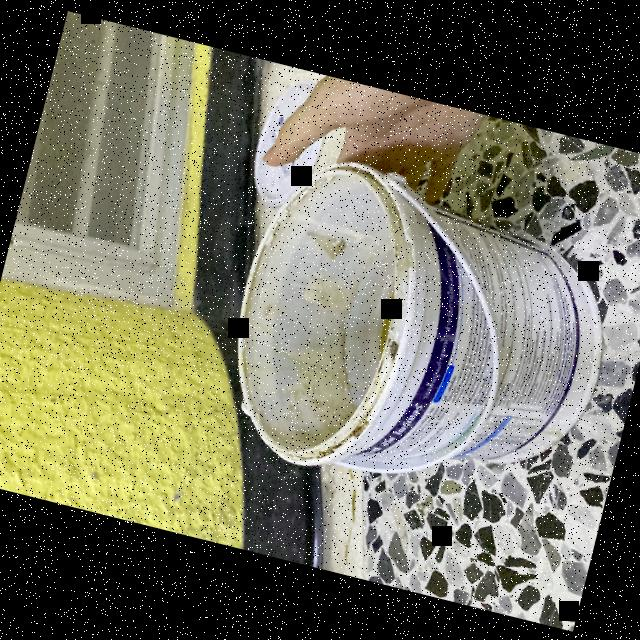paint_bucket: (201, 141, 635, 529)
